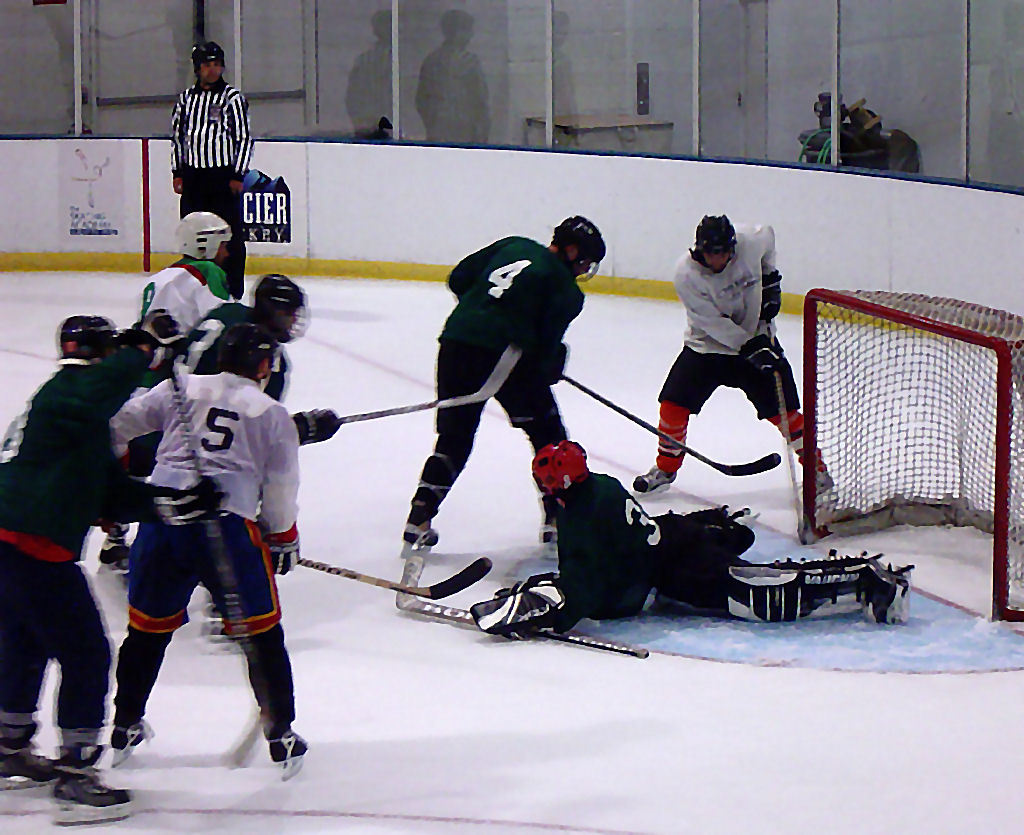Person: (0, 39, 834, 825), (0, 314, 232, 819), (102, 319, 306, 766), (529, 437, 909, 625), (401, 210, 606, 541), (630, 213, 839, 512), (0, 306, 171, 563), (121, 209, 235, 580), (170, 36, 252, 297)
